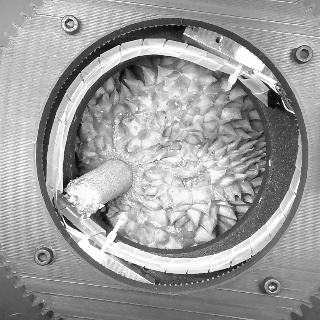base: (96, 152, 144, 197)
end: (66, 180, 101, 215)
